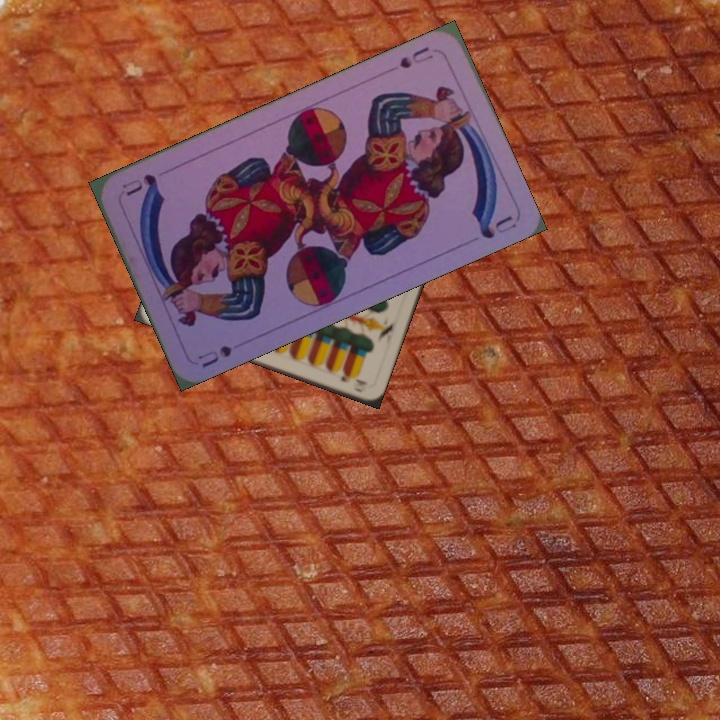SU: (194, 341, 235, 371), (395, 42, 436, 71)
